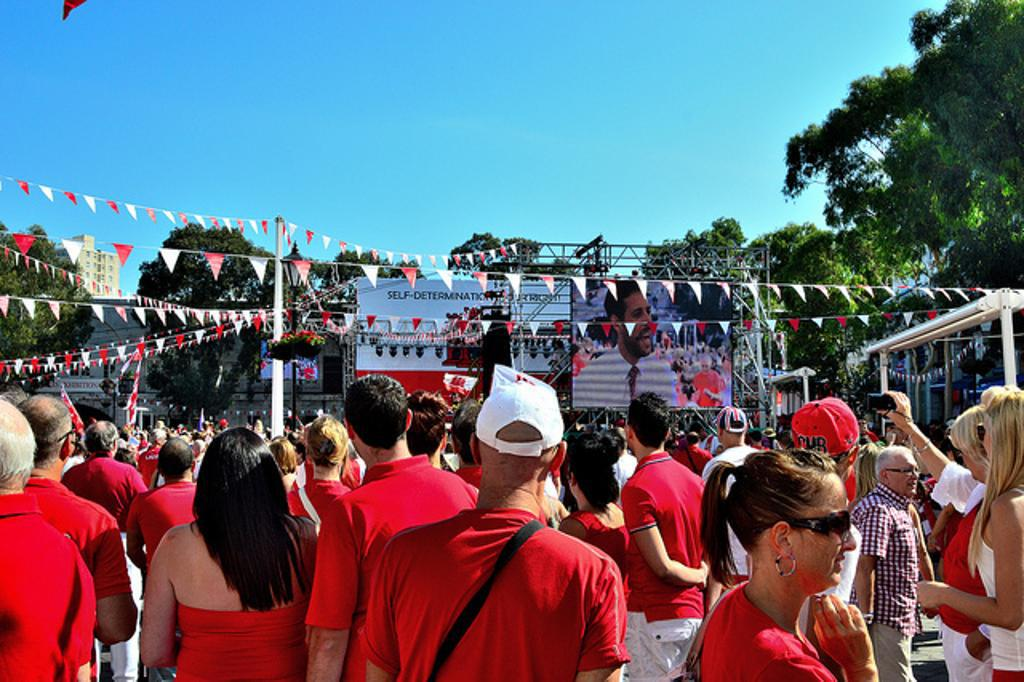face: (791, 474, 857, 588), (620, 290, 653, 355), (982, 414, 1019, 469), (956, 435, 996, 482), (887, 453, 920, 495), (157, 434, 167, 447), (858, 421, 868, 433), (701, 361, 710, 373), (129, 446, 138, 456), (782, 435, 790, 445), (223, 424, 231, 432), (205, 425, 212, 433), (779, 418, 785, 425)
